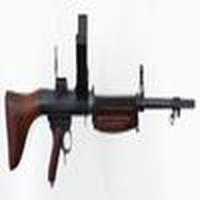gun: (4, 45, 200, 173)
